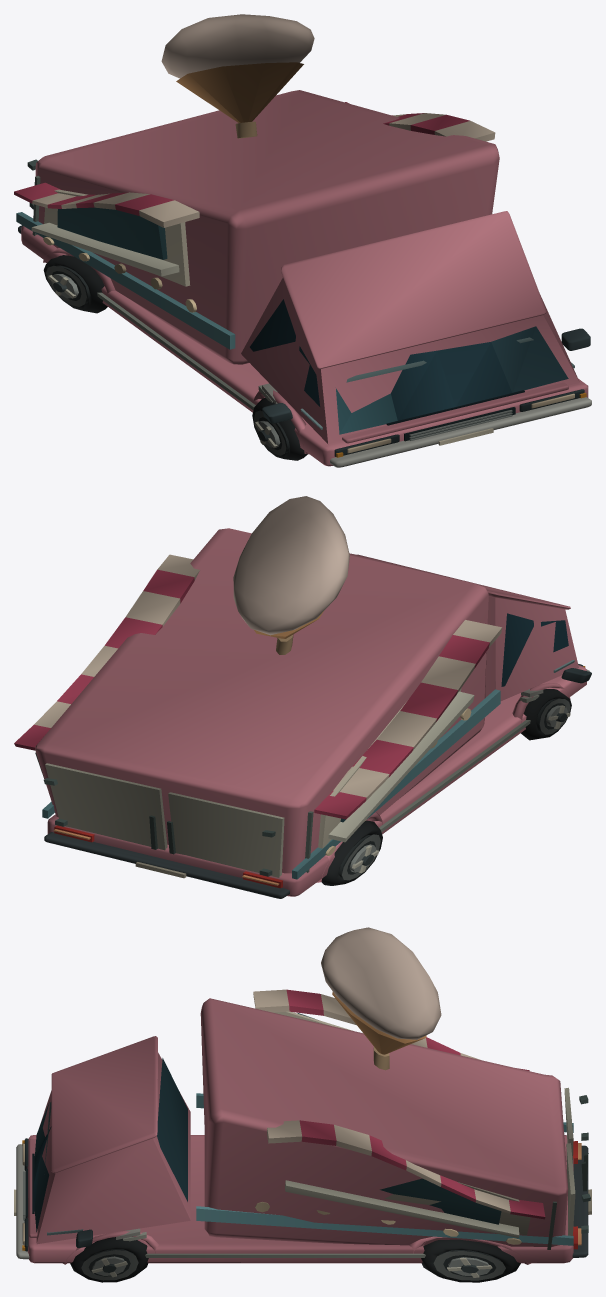
The model's file is icecream.glb.
3 renders of one model, top to bottom at view 1: azimuth 30°, elevation 25°; view 2: azimuth 150°, elevation 25°; view 3: azimuth 270°, elevation 25°, orthographic. The views are drawn at different scales.
Parts seen in each view (by area): view 1: icecream_body; view 2: icecream_body; view 3: icecream_body.
Boxes of the visible parts, bbox=[...] form: icecream_body: bbox=[14, 14, 591, 467]; icecream_body: bbox=[14, 496, 591, 898]; icecream_body: bbox=[14, 927, 591, 1282].
Size of the model in its own units: 2.8 by 2.34 by 4.4.
